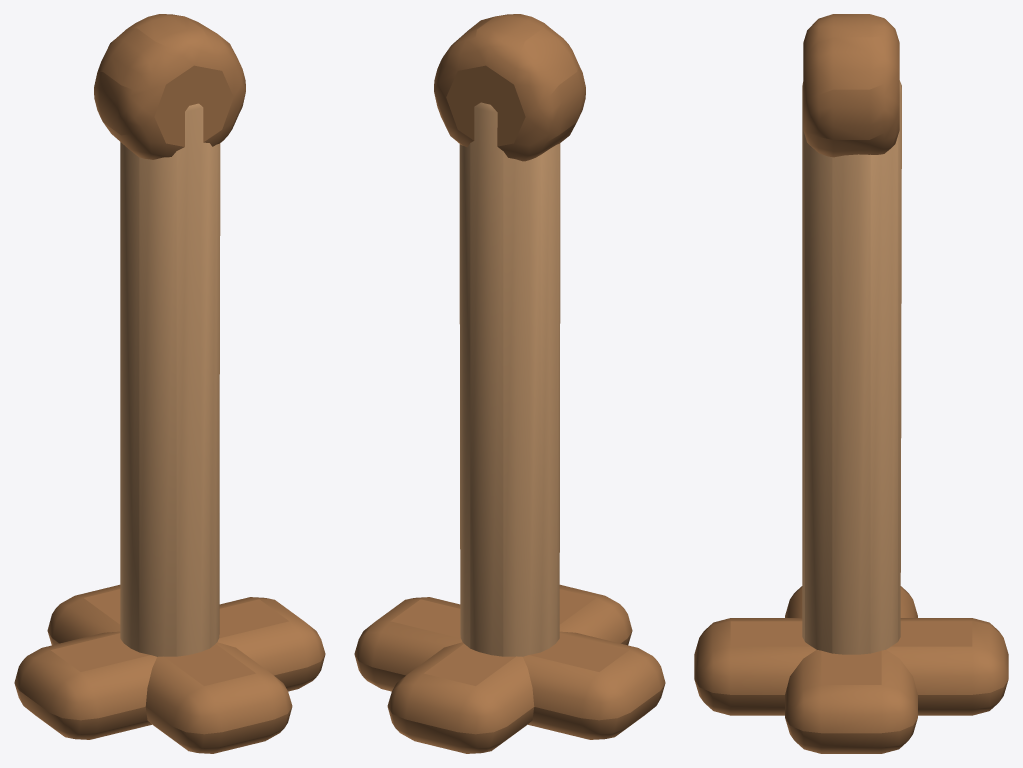
Rendered from scoop_mast.glb.
3 views of the same model, side by side, from view 1: azimuth 30°, elevation 25°; view 2: azimuth 150°, elevation 25°; view 3: azimuth 270°, elevation 25° (orthographic).
Parts seen in each view (by area): view 1: bearing; view 2: bearing; view 3: bearing.
Part boxes in pixels (box(x1,y1,x2,y2)): bearing: box(14, 14, 325, 753); bearing: box(354, 14, 665, 753); bearing: box(694, 14, 1008, 753).
Bounding box in the file's own units: 0.325 × 0.7734 × 0.325.
